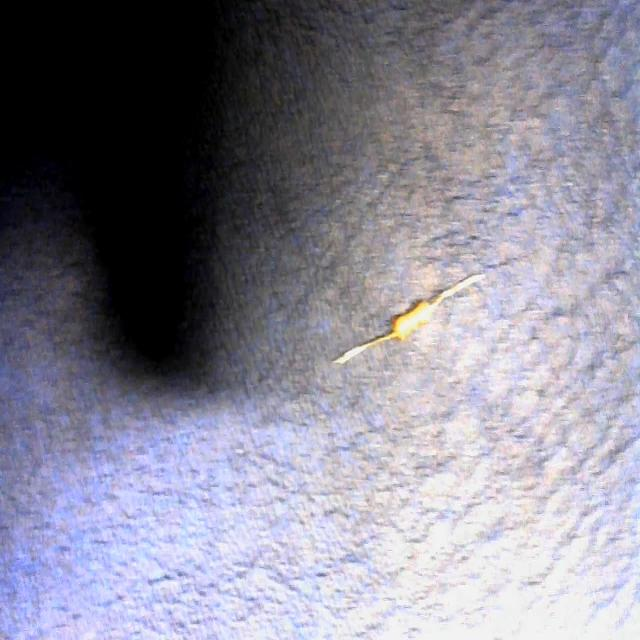resistor: (333, 269, 488, 359)
